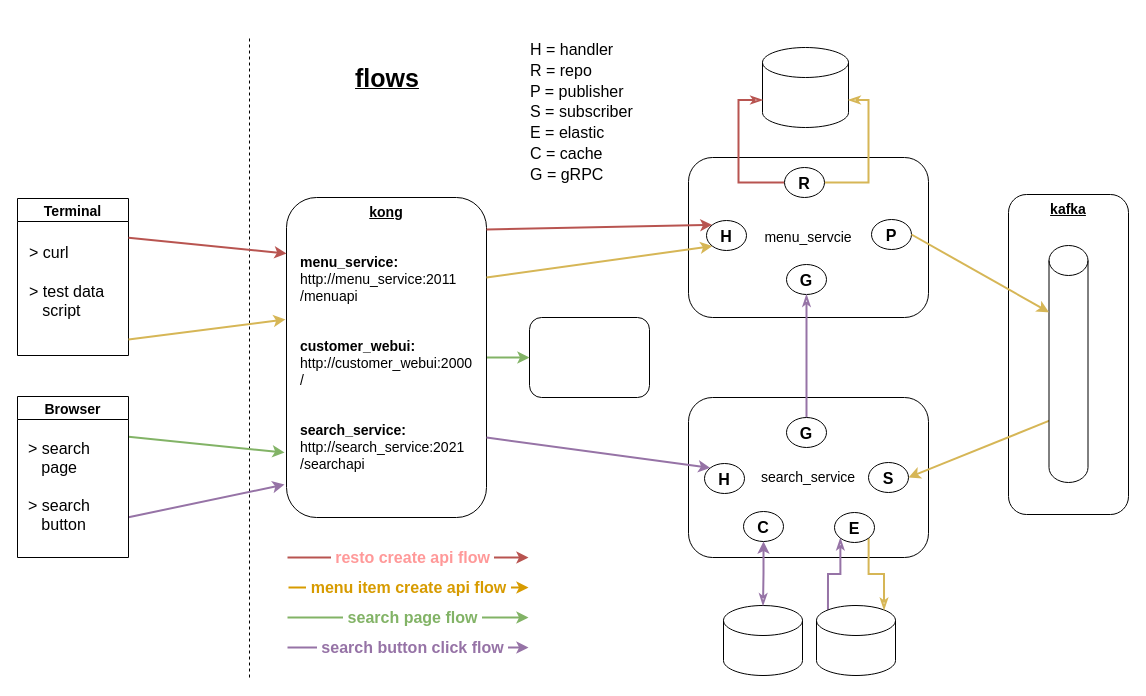
The diagram is 1146 pixels wide and 696 high, and some of its shapes have lost their labels. The shapes that lost their labels are listed below. From the top down, each one's centre as x and y in pixels, then its label:
(x=805, y=87): postgres
(x=589, y=357): customer webui
(x=1068, y=363): menuitems
(x=762, y=640): redis
(x=856, y=640): ES
